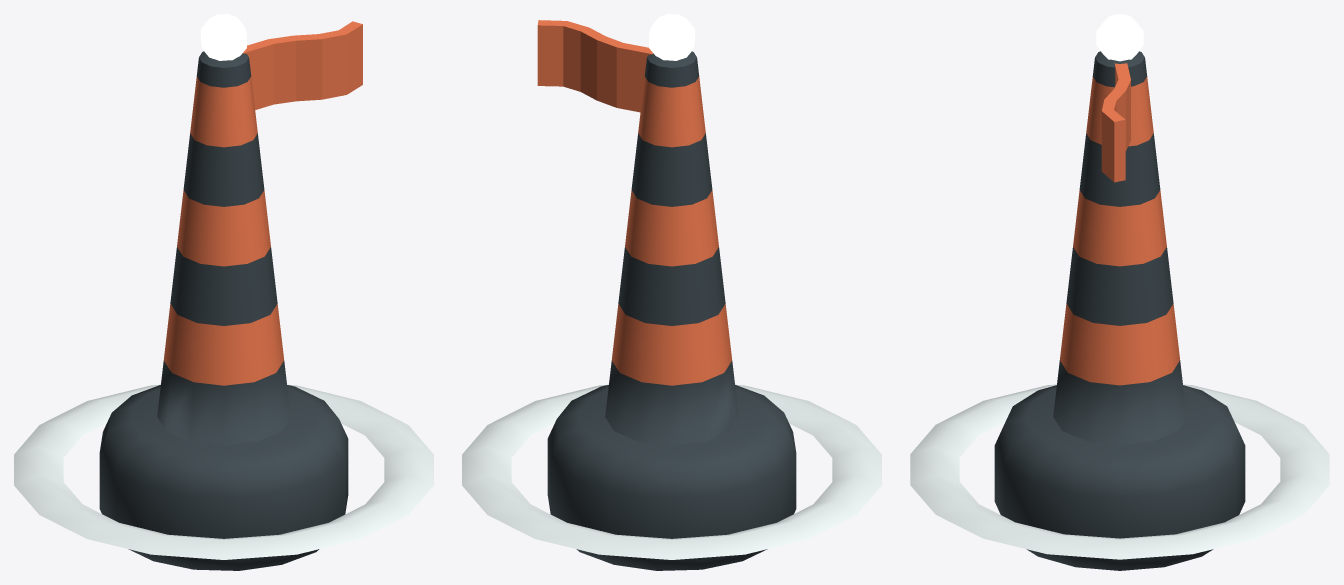
The model's file is W2_Buoy_C.fbx.
3 renders of one model, left to right at view 1: azimuth 30°, elevation 25°; view 2: azimuth 150°, elevation 25°; view 3: azimuth 270°, elevation 25°, orthographic.
Parts seen in each view (by area): view 1: Static, Pennant; view 2: Static, Pennant; view 3: Static, Pennant.
Part boxes in pixels (bbox=[...]): Static: bbox=[14, 14, 433, 570]; Pennant: bbox=[243, 21, 362, 109]; Static: bbox=[462, 14, 881, 570]; Pennant: bbox=[537, 20, 653, 112]; Static: bbox=[910, 14, 1329, 570]; Pennant: bbox=[1101, 63, 1130, 182].
Bounding box in the file's own units: 2.04 × 2.72 × 2.01.
